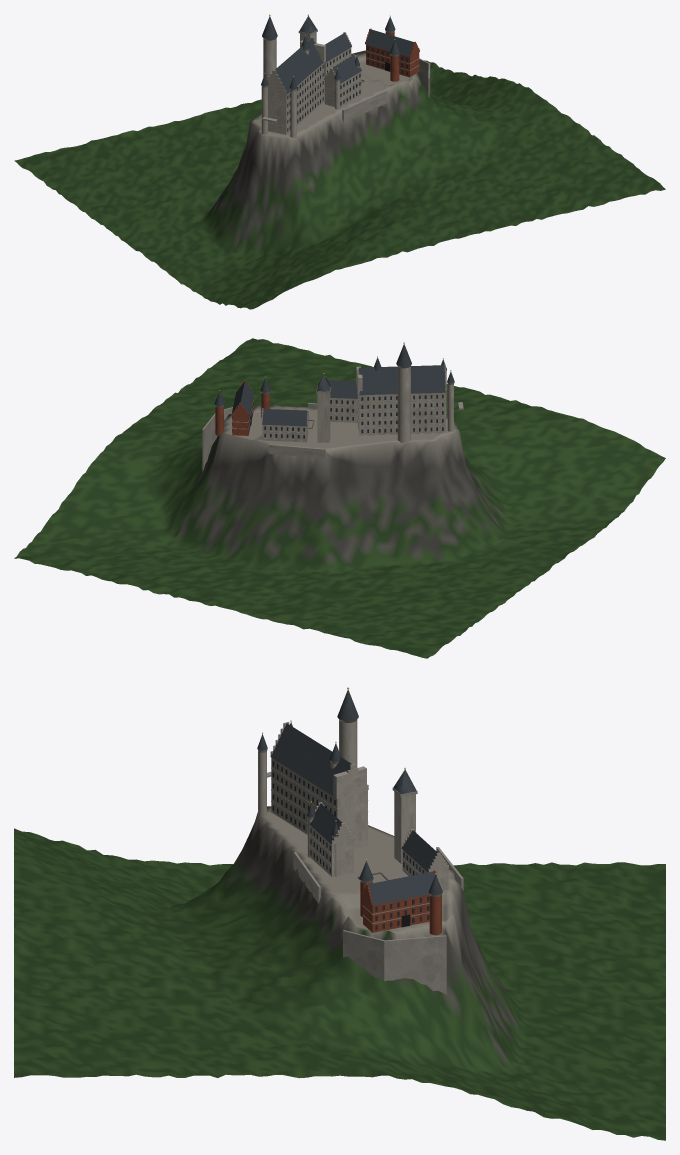
Rendered from neuschwanstein.glb.
3 renders of one model, top to bottom at view 1: azimuth 30°, elevation 25°; view 2: azimuth 150°, elevation 25°; view 3: azimuth 270°, elevation 25°, orthographic. The views are drawn at different scales.
Size of the model in its own units: 32 by 14.68 by 32.
Materials: 9 (6 with a texture image).
